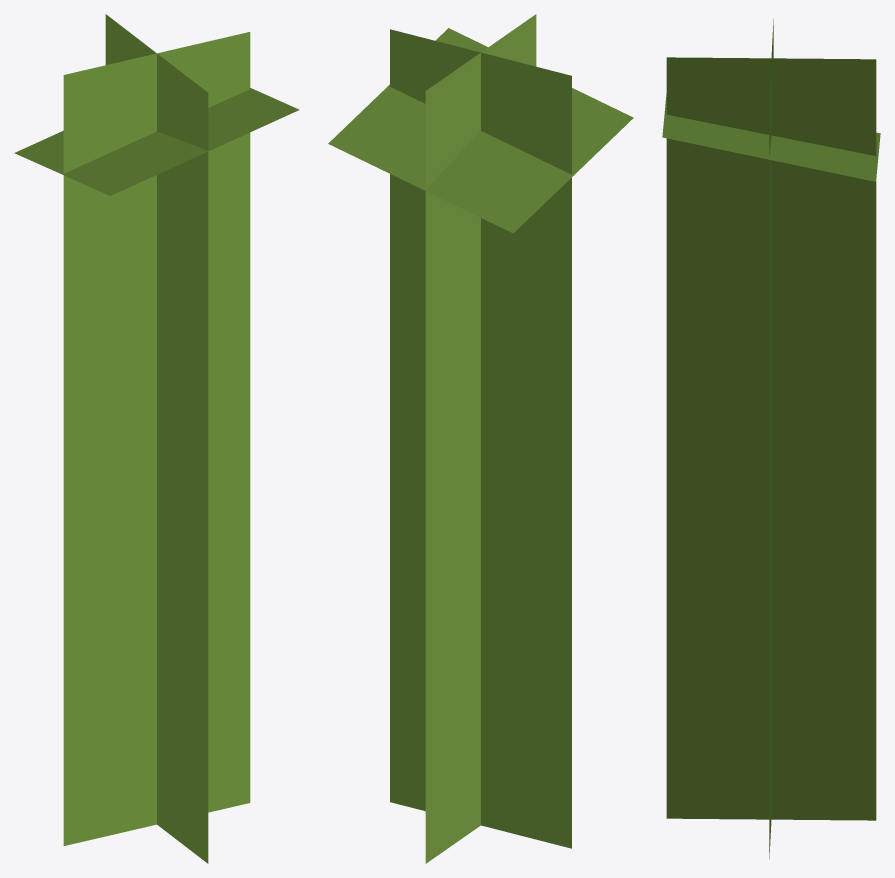
Rendered from wildflower_single_c.glb.
3 views of the same model, side by side, from view 1: azimuth 30°, elevation 25°; view 2: azimuth 150°, elevation 25°; view 3: azimuth 270°, elevation 25° (orthographic).
Visible parts, largest first — view 1: wildflower_single_c_lod0; view 2: wildflower_single_c_lod0; view 3: wildflower_single_c_lod0.
Part boxes in pixels (x1=…): wildflower_single_c_lod0: x1=14, y1=14, x2=299, y2=863; wildflower_single_c_lod0: x1=328, y1=14, x2=633, y2=863; wildflower_single_c_lod0: x1=662, y1=19, x2=880, y2=858.
Size of what is drawn, in the model's own units: 0.2705 by 1 by 0.2599.
